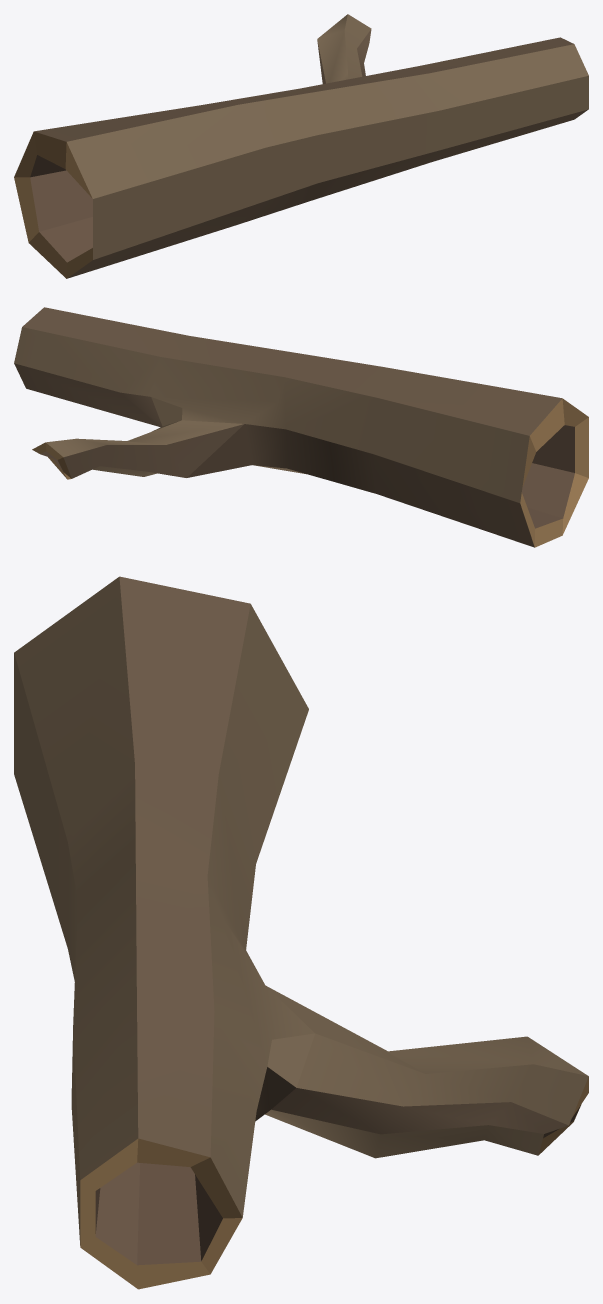
File: otherLog.fbx
3 views of the same model, one above another, from view 1: azimuth 30°, elevation 25°; view 2: azimuth 150°, elevation 25°; view 3: azimuth 270°, elevation 25° (orthographic). The views are drawn at different scales.
Parts seen in each view (by area): view 1: otherLog; view 2: otherLog; view 3: otherLog.
Boxes of the visible parts, <box> form: otherLog: <box>14,14,588,278</box>; otherLog: <box>14,307,588,547</box>; otherLog: <box>14,576,588,1289</box>.
Size of the model in its own units: 171 by 42.9 by 81.47.
